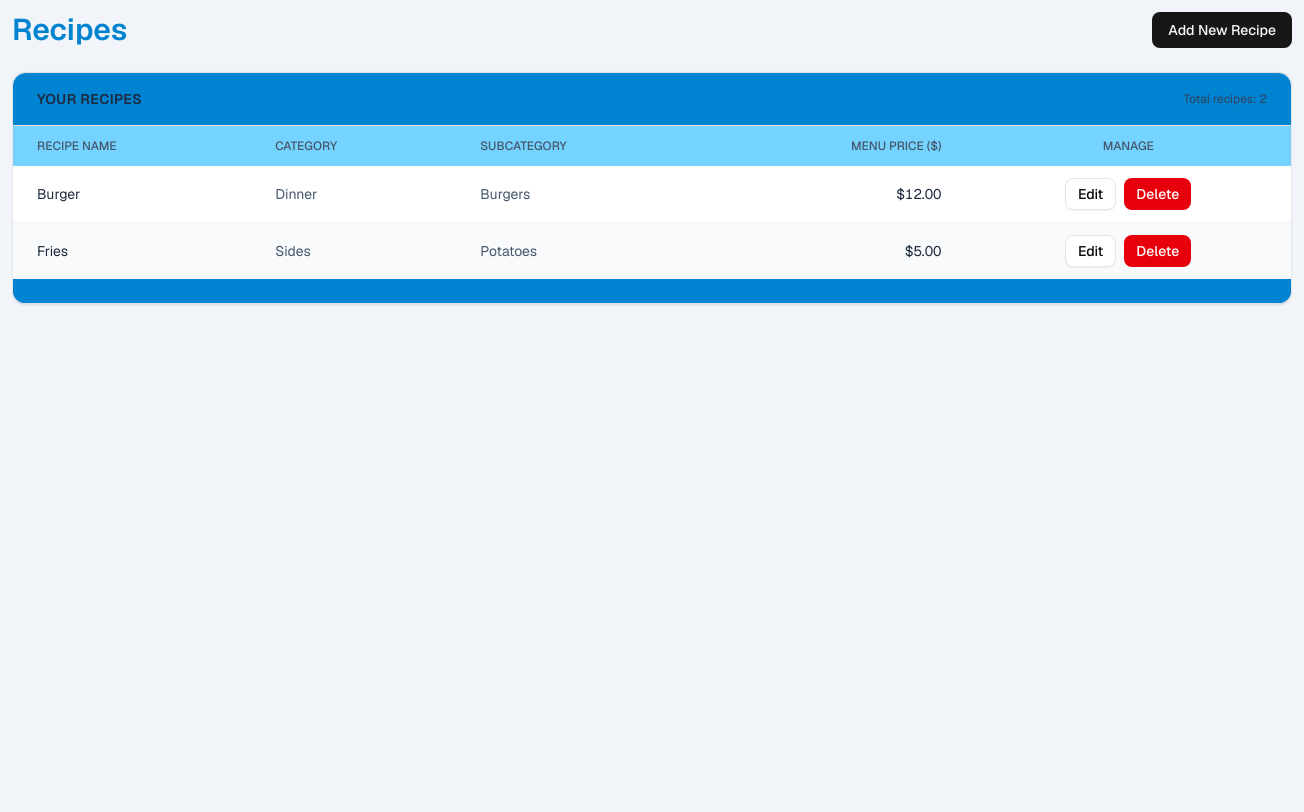
Test case: RecipesPage › adds another ingredient row
Expected: the text "Burger" is shown, [13,166,251,222]
Click the button "Add New Recipe": (1222, 30) [1152,12,1292,48]
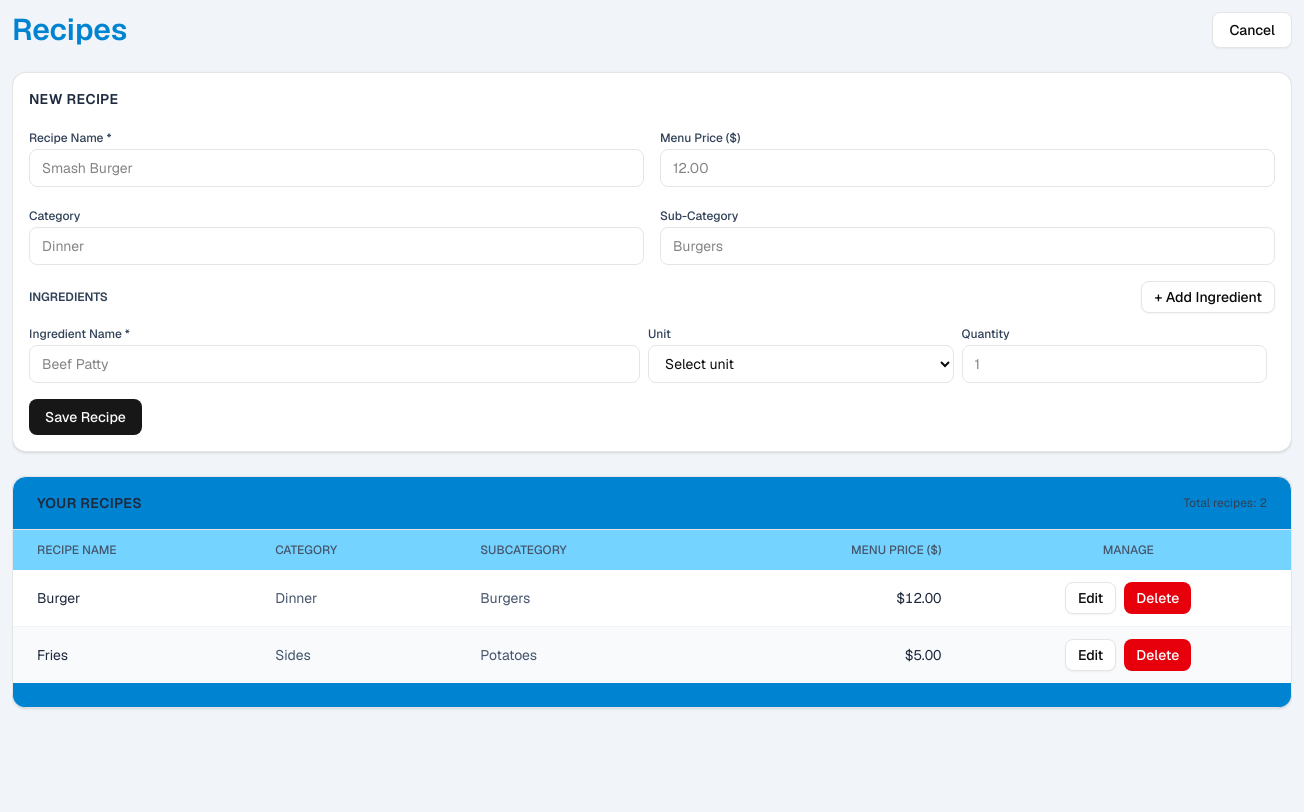
Click the button "+ Add Ingredient": (1208, 297) [1142,281,1275,313]
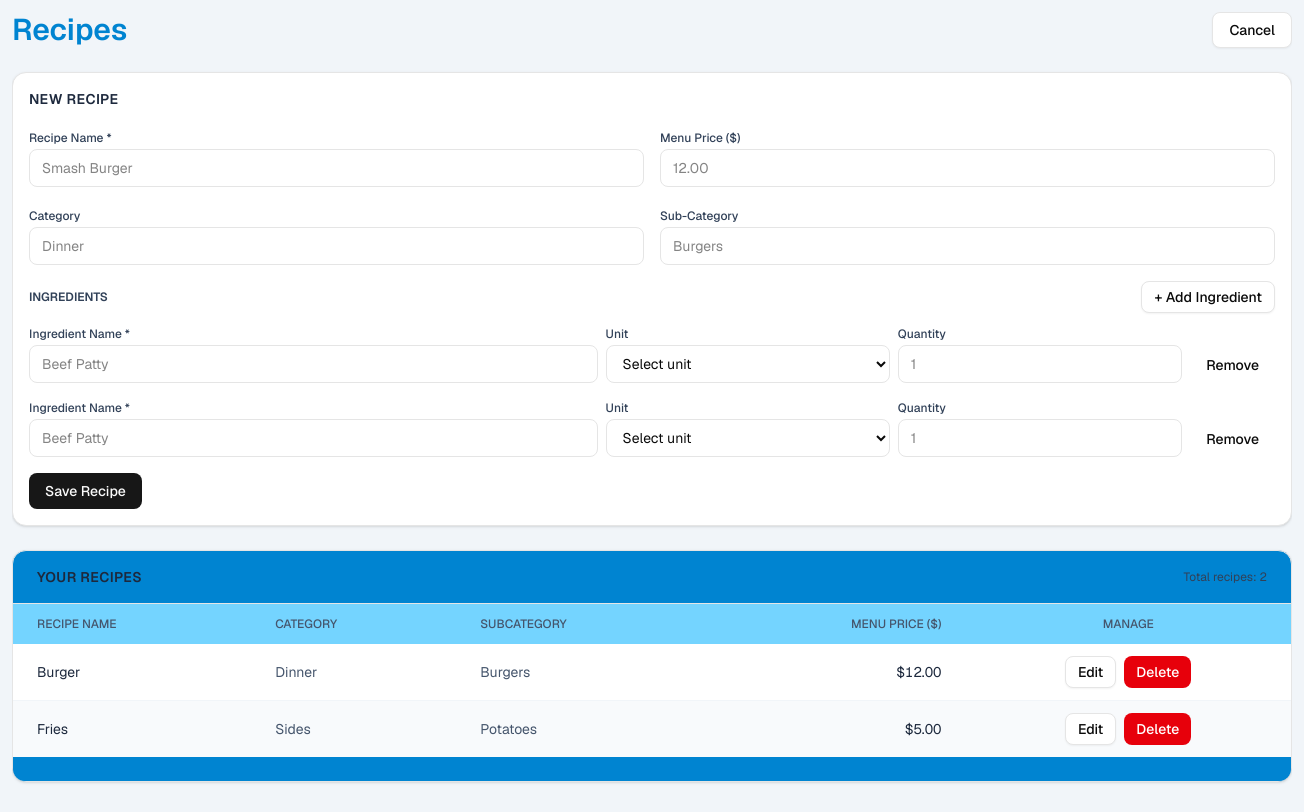
Now the number of fields with placeholder "Beef Patty" is 2, box [29,345,598,383]; [29,419,598,457]
